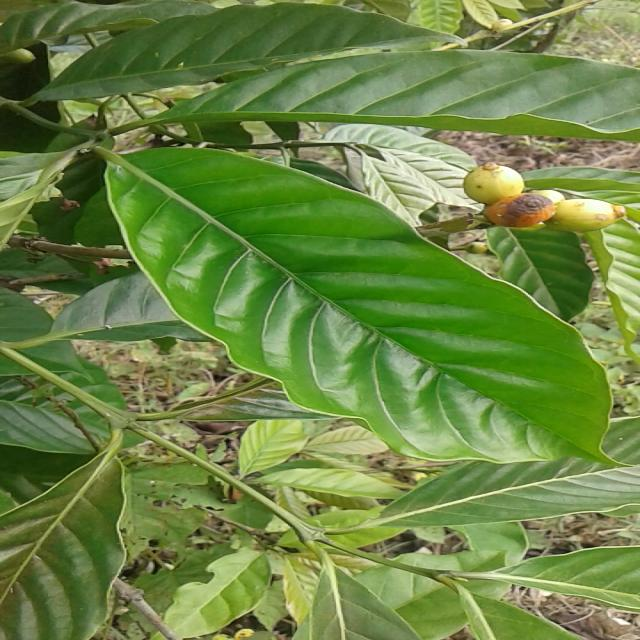Sanas: (100, 148, 612, 467)
